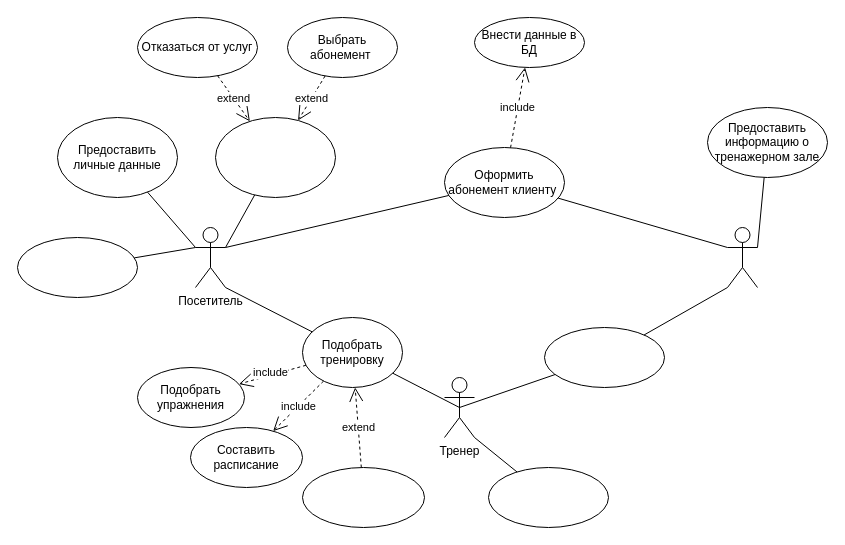
This 845x545 diagram has some shape labels left out. The shapes that lost their labels are listed below. From the top down, each one's centre as x and y in pixels, then its label:
the point at 275,157: Запросить информацию о тренажерном зале
the point at 77,267: Оплатить абонемент
the point at 742,257: Сотрудник тренажерного зала
the point at 604,357: Передать тренеру информацию о клиенте
the point at 363,497: Подобрать спец. питание
the point at 548,497: Контролировать выполнение упражнений
